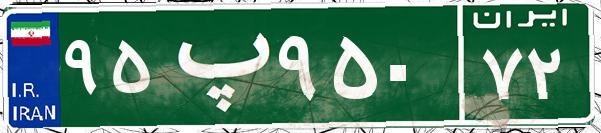0: (385, 28, 445, 110)
2: (525, 38, 570, 115)
5: (330, 28, 385, 110), (110, 28, 158, 105)
7: (475, 38, 525, 113)
9: (273, 28, 330, 110), (57, 26, 110, 107)
پ: (158, 15, 273, 115)
